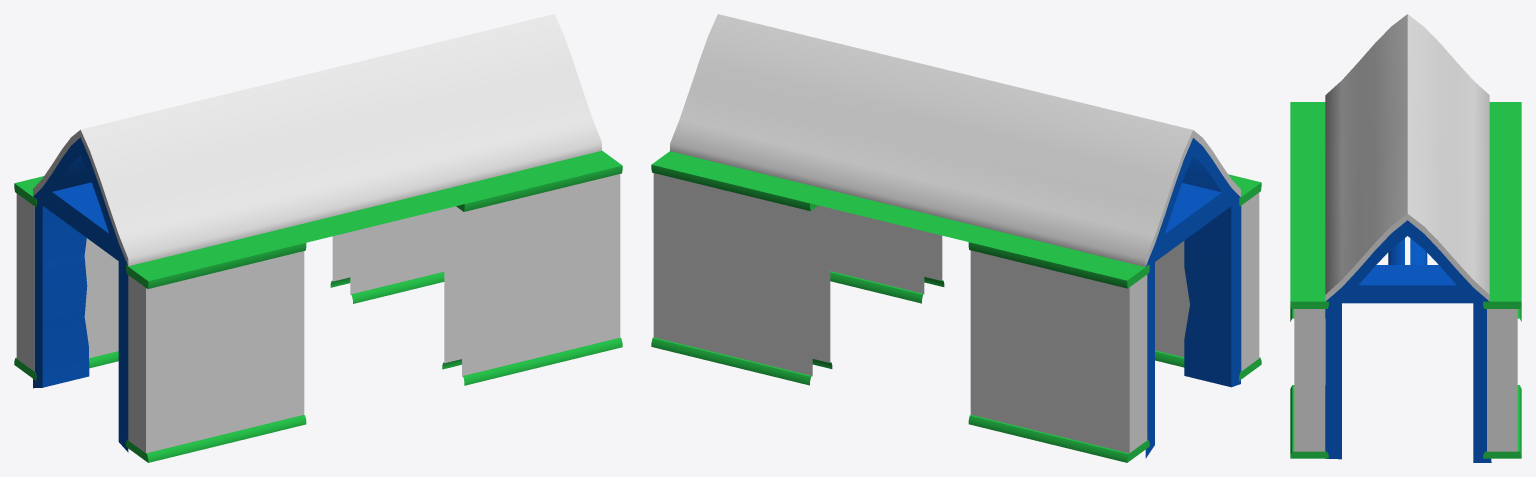
File: Basic Hallway 02C_NF.fbx
3 views of the same model, side by side, from view 1: azimuth 30°, elevation 25°; view 2: azimuth 150°, elevation 25°; view 3: azimuth 270°, elevation 25° (orthographic). The views are drawn at different scales.
Visible parts, largest first — view 1: Plane_001; view 2: Plane_001; view 3: Plane_001.
Boxes of the visible parts, x1=… form: Plane_001: x1=14, y1=14, x2=622, y2=462; Plane_001: x1=651, y1=14, x2=1261, y2=462; Plane_001: x1=1290, y1=14, x2=1521, y2=462.
Size of the model in its own units: 1258 by 744 by 615.
